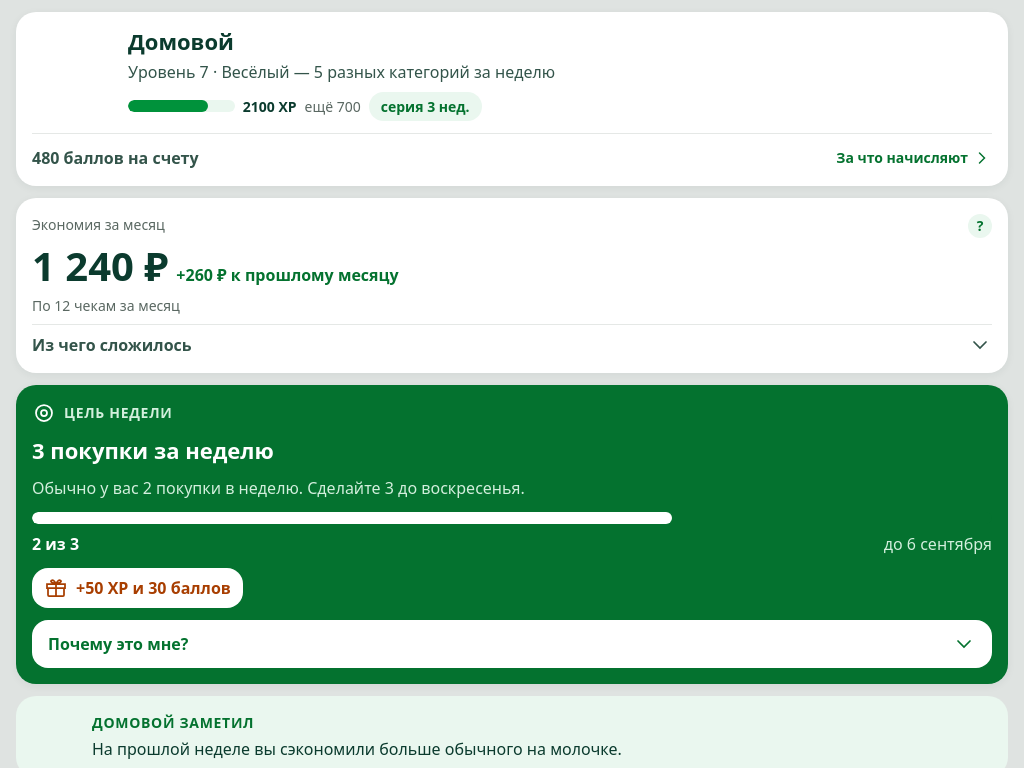
it: HomeScreen › клик «Почему это мне?» раскрывает explanation
Expected: the text "2 из 3" is shown, [32,532,79,556]
Expected: the text "Обычно 2 покупки в неделю (baseline 2), цель — 3 до конца недели." is not shown
Click the button "Почему это мне?": (118, 644) [32,620,992,668]
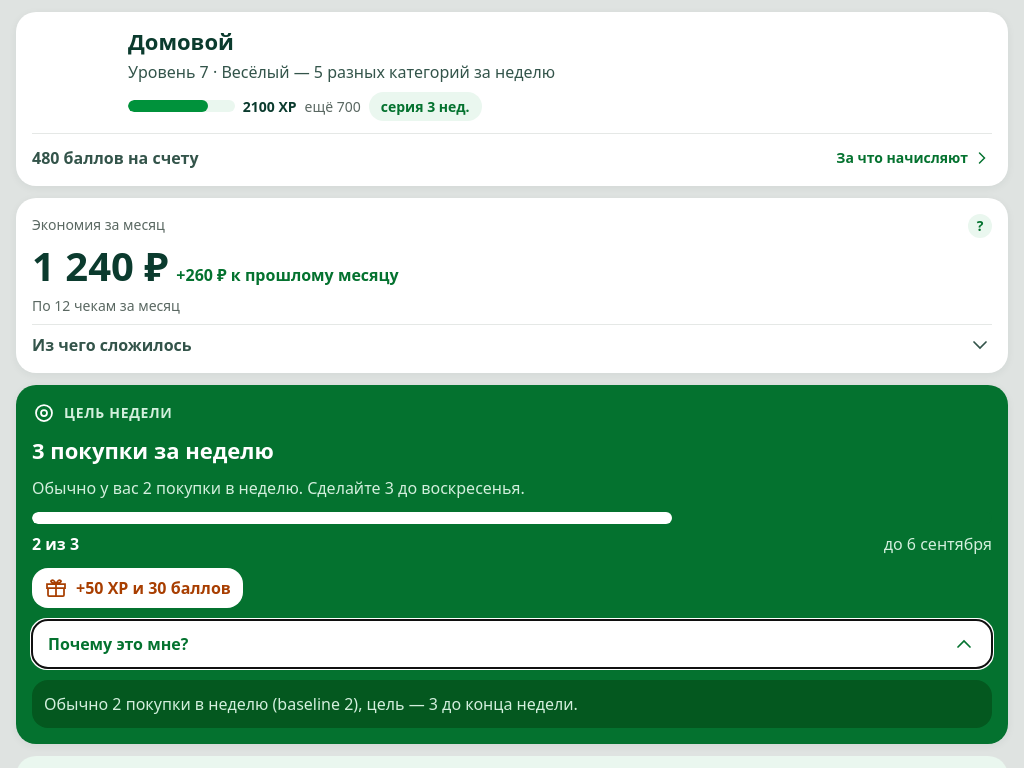
Now the text "Обычно 2 покупки в неделю (baseline 2), цель — 3 до конца недели." is shown, box [32,680,992,728]
